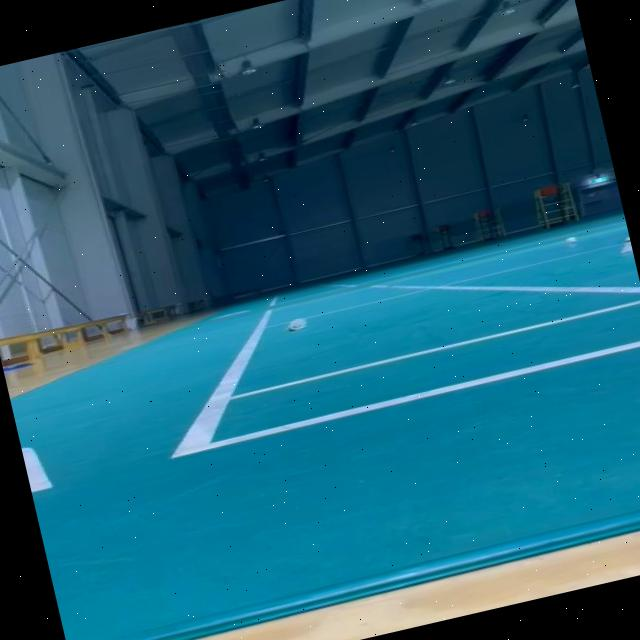Shuttle: (286, 315, 310, 335), (616, 235, 632, 253), (565, 236, 578, 245)
